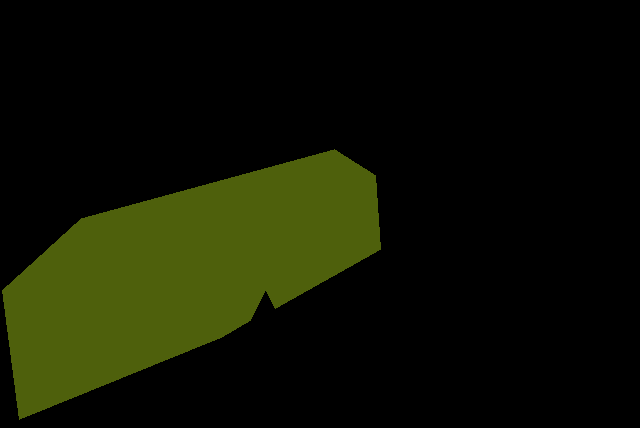Train: (2, 149, 380, 419)
